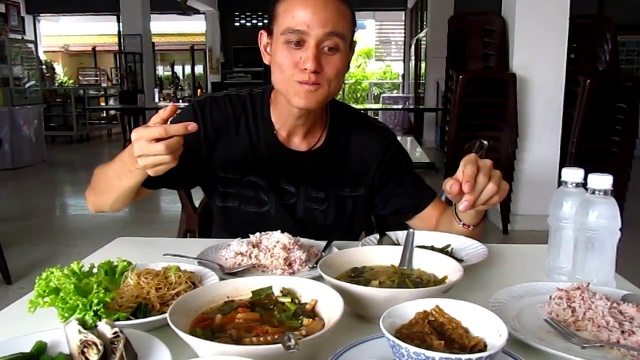person: (73, 6, 490, 246)
